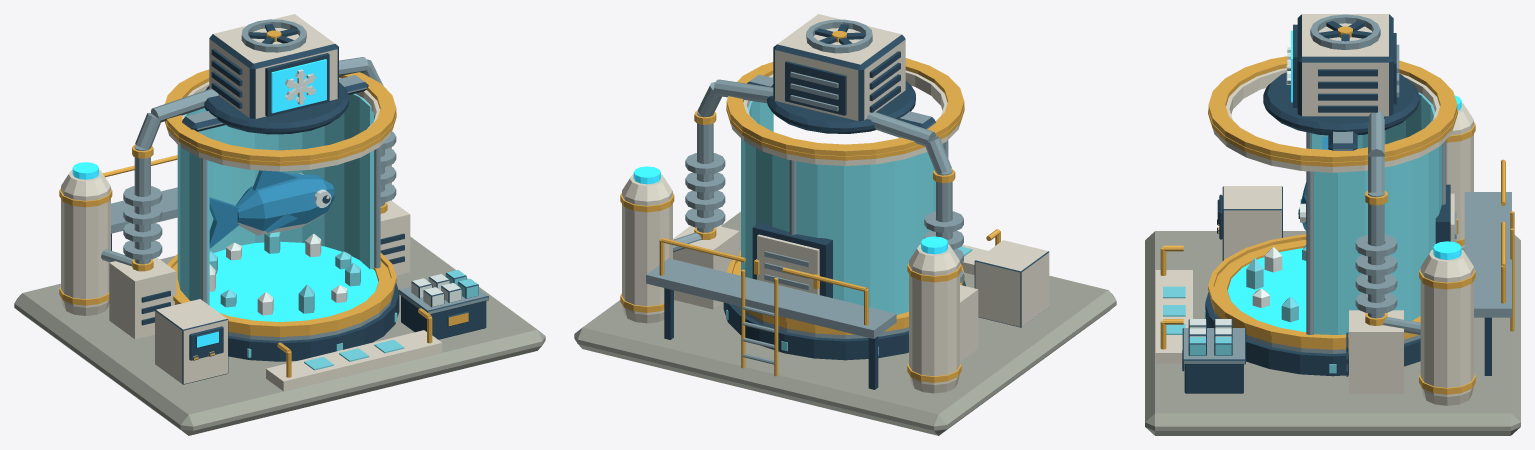
File: freezer-lv3.glb
3 views of the same model, side by side, from view 1: azimuth 30°, elevation 25°; view 2: azimuth 150°, elevation 25°; view 3: azimuth 270°, elevation 25° (orthographic). The views are drawn at different scales.
Visible parts, largest first — view 1: Freezer_L3, Bluefin_Mascot.003, Forked_Tail.003, Cold_Air_Impeller.003; view 2: Freezer_L3, Cold_Air_Impeller.003; view 3: Freezer_L3, Cold_Air_Impeller.003.
Boxes of the visible parts, x1,y1,x2,y2 form: Freezer_L3: (14, 14, 545, 435); Bluefin_Mascot.003: (235, 170, 334, 235); Forked_Tail.003: (209, 197, 239, 248); Cold_Air_Impeller.003: (248, 24, 297, 43); Freezer_L3: (574, 14, 1116, 435); Cold_Air_Impeller.003: (815, 24, 865, 44); Freezer_L3: (1145, 14, 1520, 435); Cold_Air_Impeller.003: (1319, 20, 1371, 41).
Bounding box in the file's own units: 5.4 × 4.17 × 4.5.
